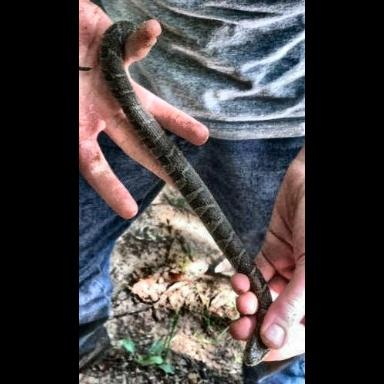snake: (98, 22, 273, 368)
